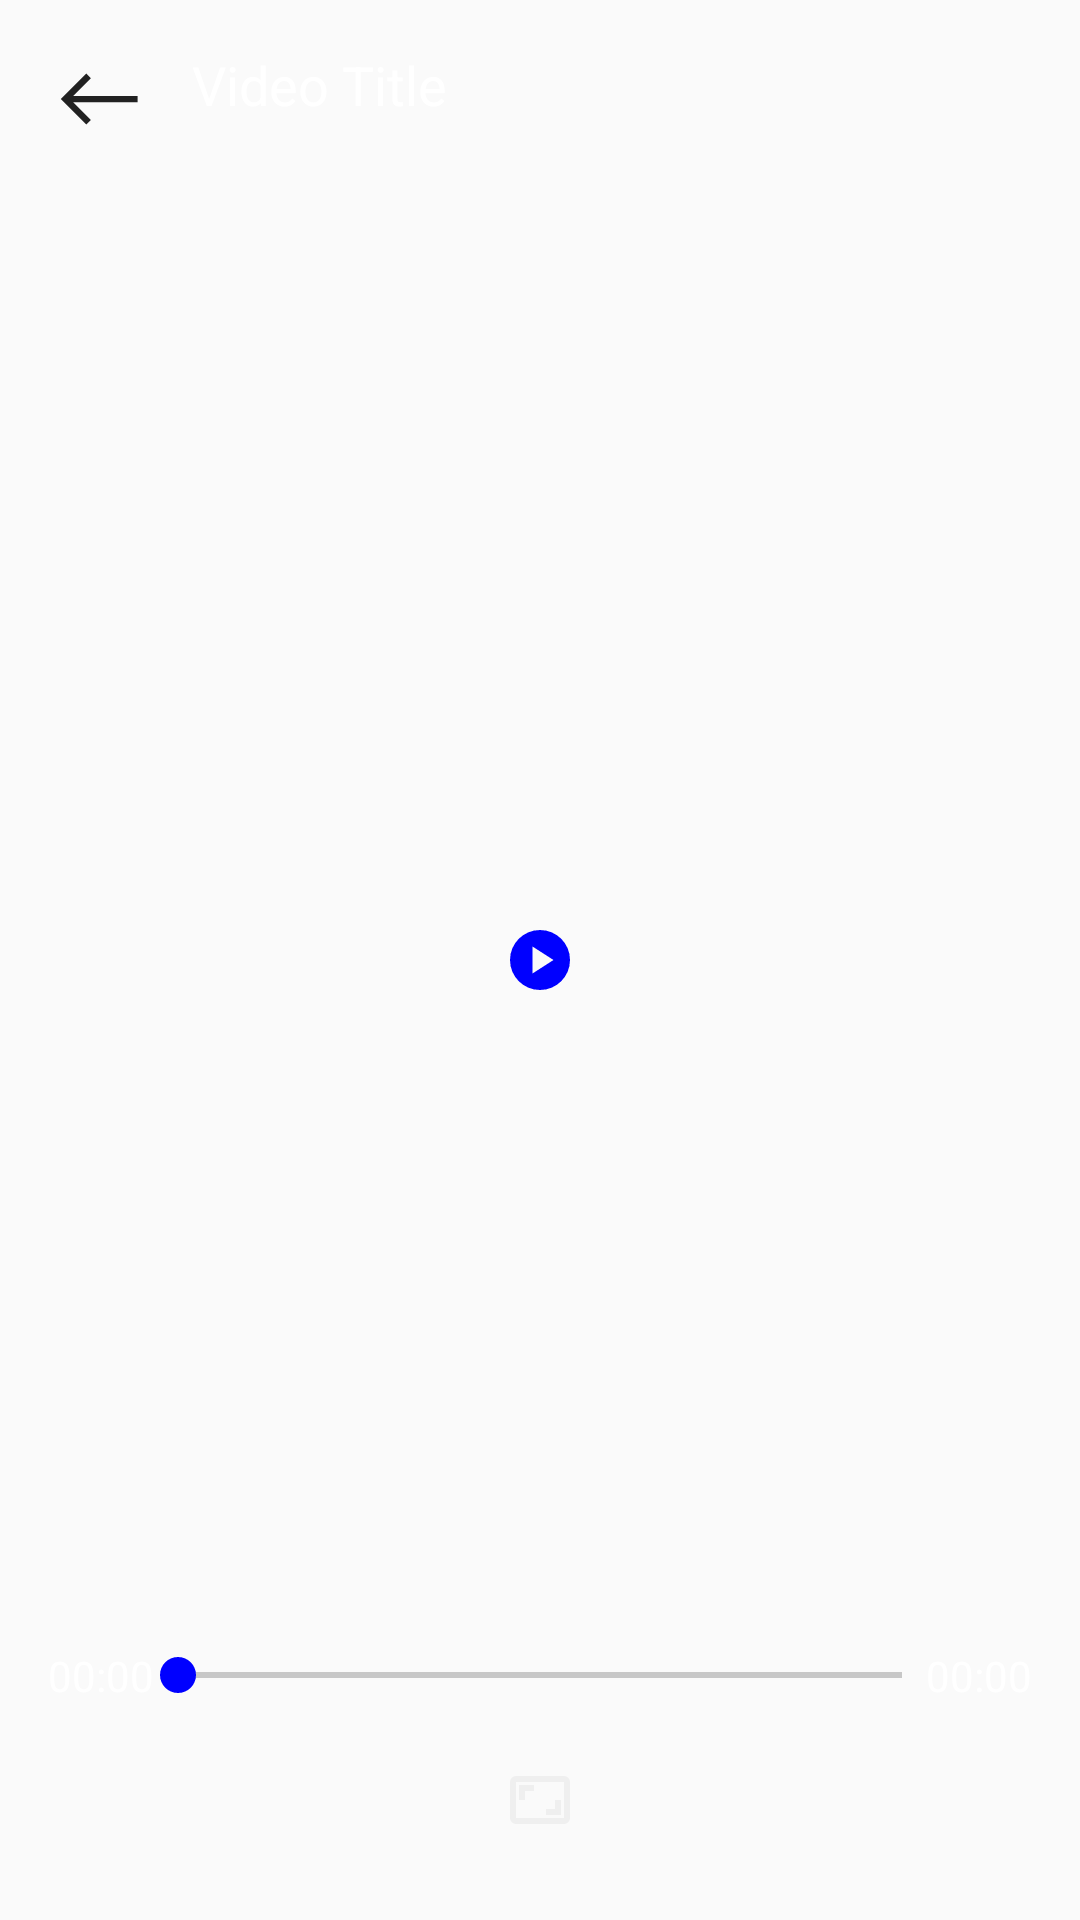

Screen size 1080x1920. Icon name, then its box in pixels as (left=x1, top=y1, right=x2, bottom=y2):
back: (left=61, top=73, right=138, bottom=125)
play: (left=510, top=930, right=570, bottom=990)
